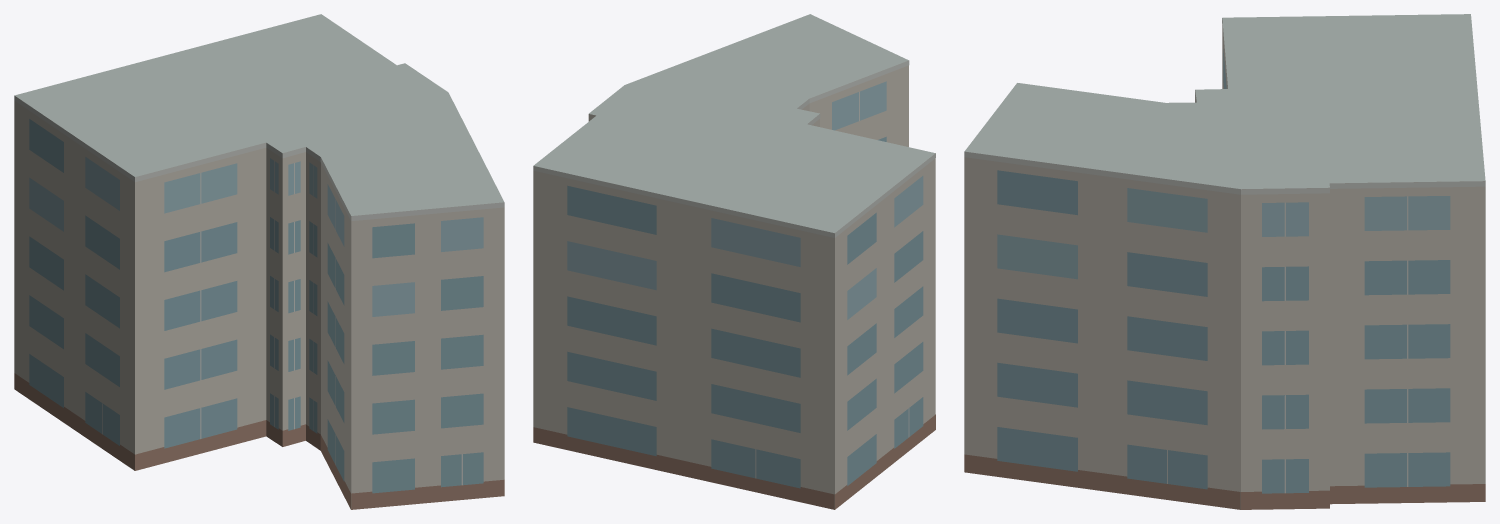
Rendered from survey-upis-32526839.glb.
3 renders of one model, left to right at view 1: azimuth 30°, elevation 25°; view 2: azimuth 150°, elevation 25°; view 3: azimuth 270°, elevation 25°, orthographic. The views are drawn at different scales.
Visible parts, largest first — view 1: survey-upis-32526839.tmp; view 2: survey-upis-32526839.tmp; view 3: survey-upis-32526839.tmp.
Boxes of the visible parts, box(x1,y1,x2,y2) form: survey-upis-32526839.tmp: box(14, 14, 504, 509); survey-upis-32526839.tmp: box(533, 14, 935, 509); survey-upis-32526839.tmp: box(964, 14, 1485, 509).
Size of the model in its own units: 16.4 by 14 by 20.63.
